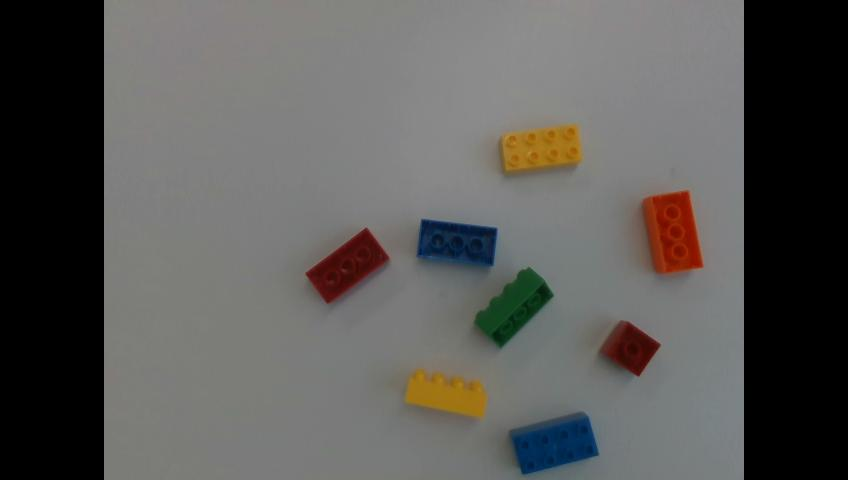2x2_red: (601, 320, 660, 375)
4x2_blue: (511, 410, 599, 473), (418, 220, 498, 264)
4x2_green: (476, 267, 553, 345)
4x2_orange: (644, 189, 703, 272)
4x2_red: (307, 227, 388, 300)
4x2_yellow: (503, 123, 583, 171), (407, 369, 487, 416)
